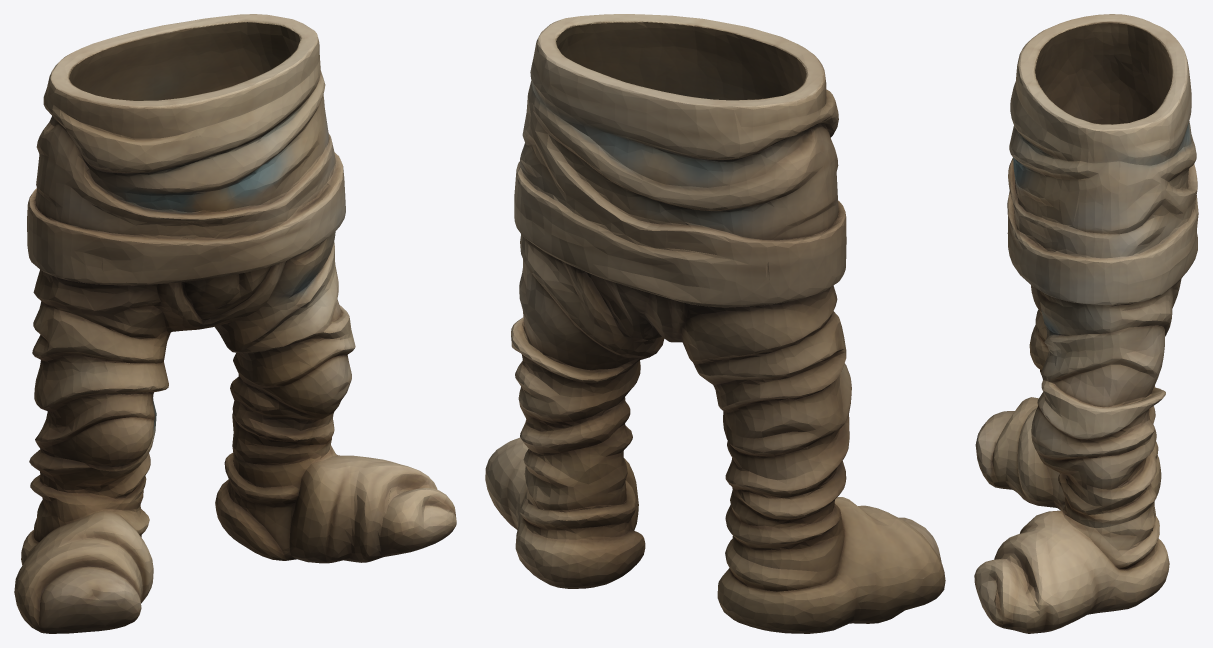
File: mumia-legs.glb
The picture shows the model from 3 angles, left to right: view 1: azimuth 30°, elevation 25°; view 2: azimuth 150°, elevation 25°; view 3: azimuth 270°, elevation 25°; orthographic projection. The views are drawn at different scales.
Visible parts, largest first — view 1: world; view 2: world; view 3: world.
Boxes of the visible parts, x1,y1,x2,y2 form: world: (14,14,456,633); world: (485,14,945,633); world: (974,14,1198,633).
Bounding box in the file's own units: 0.8692 × 0.9992 × 0.4222.
1 material, 1 textured.
